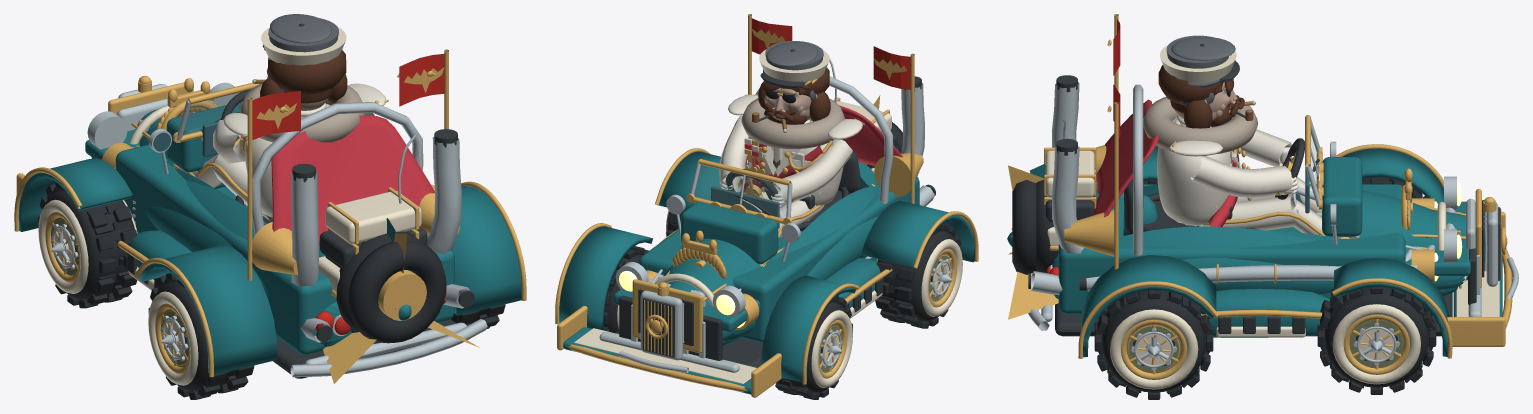
The model's file is hero-kart.glb.
3 renders of one model, left to right at view 1: azimuth 30°, elevation 25°; view 2: azimuth 150°, elevation 25°; view 3: azimuth 270°, elevation 25°, orthographic. The views are drawn at different scales.
Parts seen in each view (by area): view 1: body-jeep / Petrol enamel, scarfFlap / Cape cloth, detach-3 / Petrol enamel, detach-4 / Petrol enamel, variant-spare / Tire rubber, variant-fin / Polished steel, detach-1 / Petrol enamel, body-rounded / Petrol enamel, variant-luggage / Ivory enamel, body-limousine / Polished steel, hero-kart / Petrol enamel, wheelSpin-0 / Tire rubber (+38 smaller); view 2: body-jeep / Petrol enamel, hero-kart / Petrol enamel, detach-2 / Petrol enamel, detach-1 / Petrol enamel, detach-3 / Petrol enamel, roadster-front / Brushed champagne brass, body-rounded / Petrol enamel, body-limousine / Limousine touring glass, cast-furcollar / Fur trim, body-limousine / Polished steel, body-rocket / Petrol enamel, body-limousine / Brushed champagne brass (+48 smaller); view 3: body-jeep / Petrol enamel, driverPose / Uniform racing suit, hero-kart / Petrol enamel, body-rounded / Petrol enamel, detach-4 / Petrol enamel, variant-fin / Polished steel, body-grandprix / Polished steel, body-rocket / Petrol enamel, detach-2 / Petrol enamel, cast-furcollar / Fur trim, hero-kart / Dark leather, roadster-front / Brushed champagne brass (+49 smaller).
Part boxes in pixels (x1=…): body-jeep / Petrol enamel: x1=85, y1=129, x2=454, y2=354; scarfFlap / Cape cloth: x1=271, y1=115, x2=434, y2=245; detach-3 / Petrol enamel: x1=139, y1=245, x2=277, y2=375; detach-4 / Petrol enamel: x1=451, y1=186, x2=521, y2=315; variant-spare / Tire rubber: x1=348, y1=240, x2=446, y2=343; variant-fin / Polished steel: x1=290, y1=137, x2=461, y2=287; detach-1 / Petrol enamel: x1=18, y1=158, x2=132, y2=231; body-rounded / Petrol enamel: x1=146, y1=179, x2=269, y2=301; variant-luggage / Ivory enamel: x1=318, y1=191, x2=421, y2=291; body-limousine / Polished steel: x1=87, y1=82, x2=466, y2=364; hero-kart / Petrol enamel: x1=127, y1=103, x2=239, y2=279; wheelSpin-0 / Tire rubber: x1=45, y1=187, x2=134, y2=303; body-jeep / Petrol enamel: x1=613, y1=176, x2=919, y2=342; hero-kart / Petrol enamel: x1=681, y1=202, x2=883, y2=307; detach-2 / Petrol enamel: x1=559, y1=226, x2=652, y2=330; detach-1 / Petrol enamel: x1=761, y1=275, x2=855, y2=382; detach-3 / Petrol enamel: x1=861, y1=201, x2=975, y2=268; roadster-front / Brushed champagne brass: x1=557, y1=230, x2=781, y2=397; body-rounded / Petrol enamel: x1=722, y1=179, x2=878, y2=341; body-limousine / Limousine touring glass: x1=694, y1=165, x2=787, y2=218; cast-furcollar / Fur trim: x1=741, y1=98, x2=845, y2=148; body-limousine / Polished steel: x1=599, y1=160, x2=871, y2=372; body-rocket / Petrol enamel: x1=663, y1=161, x2=876, y2=305; body-limousine / Brushed champagne brass: x1=632, y1=159, x2=792, y2=353; body-jeep / Petrol enamel: x1=1058, y1=184, x2=1470, y2=314; driverPose / Uniform racing suit: x1=1157, y1=117, x2=1349, y2=238; hero-kart / Petrol enamel: x1=1199, y1=157, x2=1362, y2=337; body-rounded / Petrol enamel: x1=1118, y1=184, x2=1333, y2=294; detach-4 / Petrol enamel: x1=1081, y1=255, x2=1216, y2=357; variant-fin / Polished steel: x1=1052, y1=82, x2=1084, y2=253; body-grandprix / Polished steel: x1=1086, y1=177, x2=1518, y2=298; body-rocket / Petrol enamel: x1=1058, y1=188, x2=1484, y2=258; detach-2 / Petrol enamel: x1=1334, y1=258, x2=1449, y2=356; cast-furcollar / Fur trim: x1=1143, y1=97, x2=1258, y2=154; hero-kart / Dark leather: x1=1028, y1=177, x2=1452, y2=336; roadster-front / Brushed champagne brass: x1=1401, y1=168, x2=1512, y2=346.
Size of the model in its own units: 2.43 by 2.21 by 3.54.
